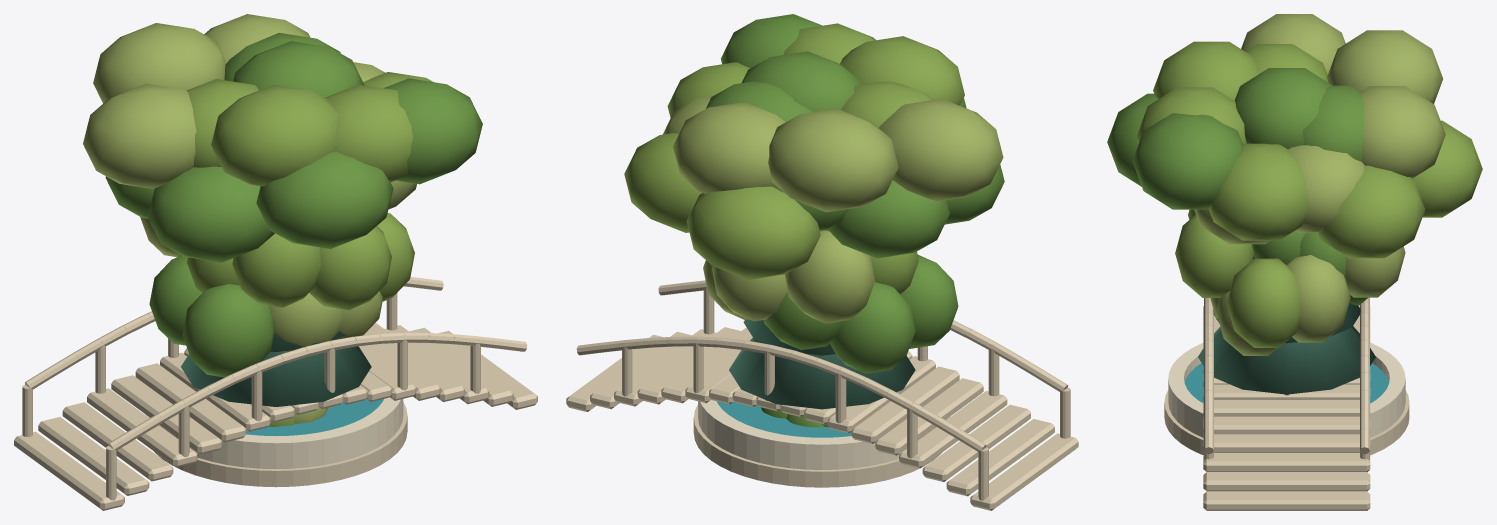
Rendered from environment-kit.glb.
3 views of the same model, side by side, from view 1: azimuth 30°, elevation 25°; view 2: azimuth 150°, elevation 25°; view 3: azimuth 270°, elevation 25° (orthographic). The views are drawn at different scales.
Parts seen in each view (by area): view 1: BRIDGE_STONE__City_Limestone, TREE_01__City_Leaf_0, TREE_01__City_Leaf_2, TREE_01__City_Leaf_1, TREE_02__City_Leaf_1, TREE_02__City_Leaf_0, FOUNTAIN__City_Cream, TREE_03__City_Leaf_3, FOUNTAIN__City_Limestone, TREE_02__City_Leaf_2, FOUNTAIN__City_Water; view 2: BRIDGE_STONE__City_Limestone, TREE_01__City_Leaf_2, TREE_01__City_Leaf_1, TREE_01__City_Leaf_0, TREE_02__City_Leaf_0, TREE_02__City_Leaf_2, TREE_03__City_Leaf_3, FOUNTAIN__City_Cream, FOUNTAIN__City_Limestone, FOUNTAIN__City_Water, TREE_02__City_Leaf_1; view 3: TREE_01__City_Leaf_1, BRIDGE_STONE__City_Limestone, TREE_01__City_Leaf_2, TREE_01__City_Leaf_0, TREE_02__City_Leaf_1, TREE_03__City_Leaf_3, TREE_02__City_Leaf_2, FOUNTAIN__City_Cream, TREE_02__City_Leaf_0, FOUNTAIN__City_Limestone, FOUNTAIN__City_Water.
Boxes of the visible parts, x1,y1,x2,y2 form: BRIDGE_STONE__City_Limestone: (14,277,537,510); TREE_01__City_Leaf_0: (105,33,482,262); TREE_01__City_Leaf_2: (83,14,416,209); TREE_01__City_Leaf_1: (186,72,433,186); TREE_02__City_Leaf_1: (187,213,414,309); TREE_02__City_Leaf_0: (149,255,275,377); FOUNTAIN__City_Cream: (149,353,403,469); TREE_03__City_Leaf_3: (181,331,371,406); FOUNTAIN__City_Limestone: (145,402,407,487); TREE_02__City_Leaf_2: (140,217,382,352); FOUNTAIN__City_Water: (246,399,383,436); BRIDGE_STONE__City_Limestone: (566,280,1078,510); TREE_01__City_Leaf_2: (663,95,1003,212); TREE_01__City_Leaf_1: (624,23,964,279); TREE_01__City_Leaf_0: (706,14,1004,258); TREE_02__City_Leaf_0: (763,255,958,373); TREE_02__City_Leaf_2: (703,230,875,323); TREE_03__City_Leaf_3: (729,319,915,409); FOUNTAIN__City_Cream: (698,356,946,469); FOUNTAIN__City_Limestone: (693,404,950,487); FOUNTAIN__City_Water: (717,401,851,437); TREE_02__City_Leaf_1: (870,251,918,294); TREE_01__City_Leaf_1: (1137,41,1482,258); BRIDGE_STONE__City_Limestone: (1203,297,1370,510); TREE_01__City_Leaf_2: (1194,14,1445,244); TREE_01__City_Leaf_0: (1107,68,1364,209); TREE_02__City_Leaf_1: (1175,209,1299,347); TREE_03__City_Leaf_3: (1198,256,1375,394); TREE_02__City_Leaf_2: (1210,246,1405,355); FOUNTAIN__City_Cream: (1168,342,1405,437); TREE_02__City_Leaf_0: (1252,230,1367,305); FOUNTAIN__City_Limestone: (1164,390,1409,455); FOUNTAIN__City_Water: (1184,363,1388,403).
Size of the model in its own units: 8.47 by 7.45 by 6.75.
